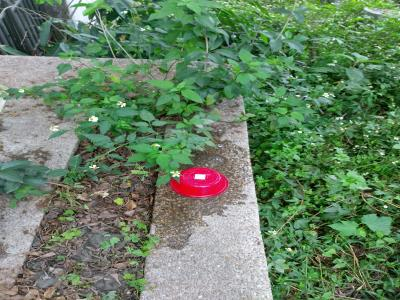plate: (167, 165, 232, 202)
